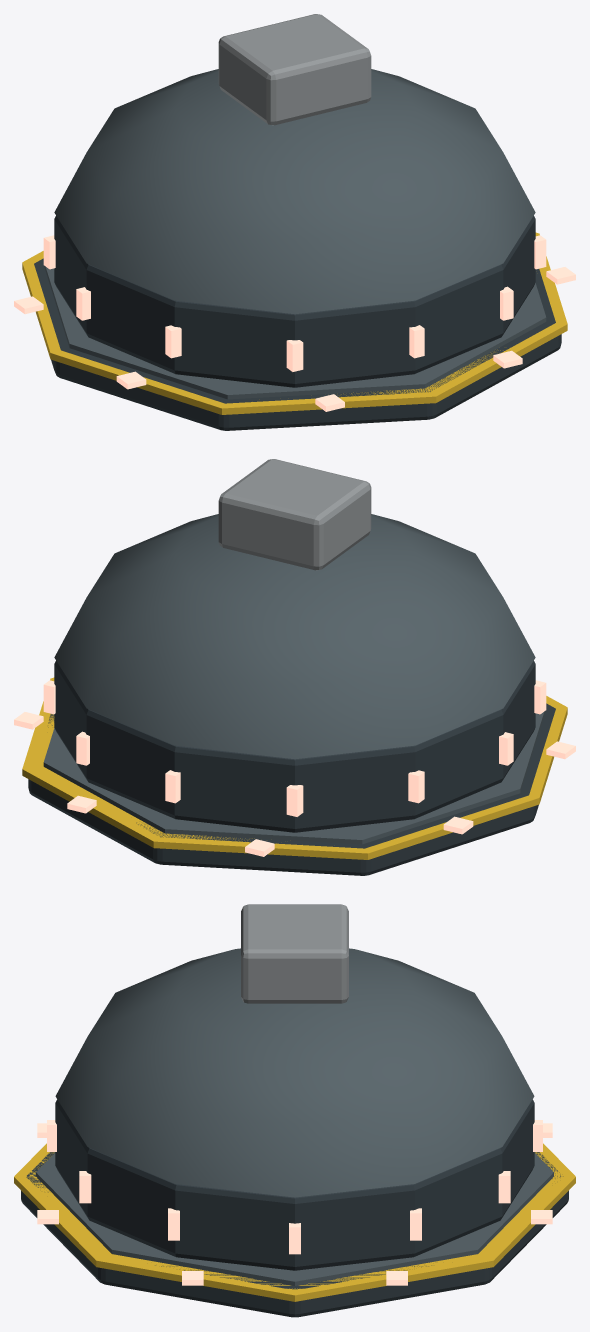
Rendered from military_dome.fbx.
The picture shows the model from 3 angles, top to bottom: view 1: azimuth 30°, elevation 25°; view 2: azimuth 150°, elevation 25°; view 3: azimuth 270°, elevation 25°; orthographic projection.
Visible parts, largest first — view 1: military_dome, ANIM_spin_z_15__turret; view 2: military_dome, ANIM_spin_z_15__turret; view 3: military_dome, ANIM_spin_z_15__turret.
Boxes of the visible parts, x1,y1,x2,y2 form: military_dome: (14, 69, 575, 430); ANIM_spin_z_15__turret: (218, 14, 371, 125); military_dome: (14, 514, 575, 875); ANIM_spin_z_15__turret: (218, 459, 371, 570); military_dome: (14, 948, 575, 1317); ANIM_spin_z_15__turret: (241, 904, 348, 1003).
Size of the model in its own units: 4.69 by 2.55 by 4.69.
